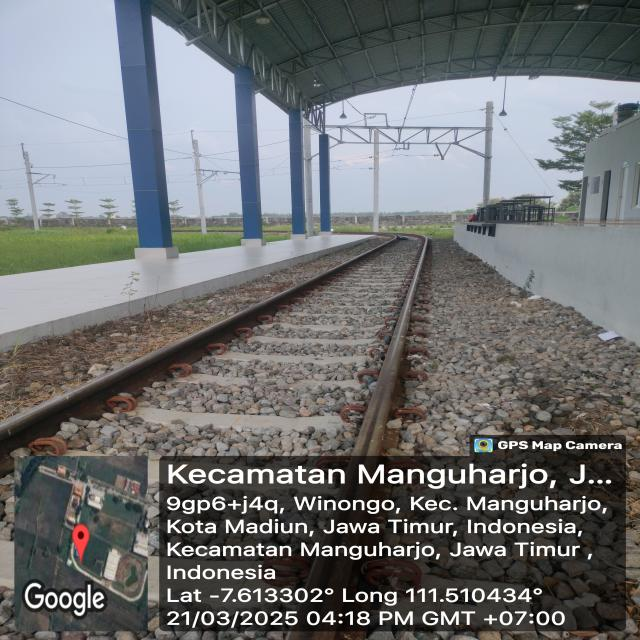rail-detection: (0, 233, 428, 474)
